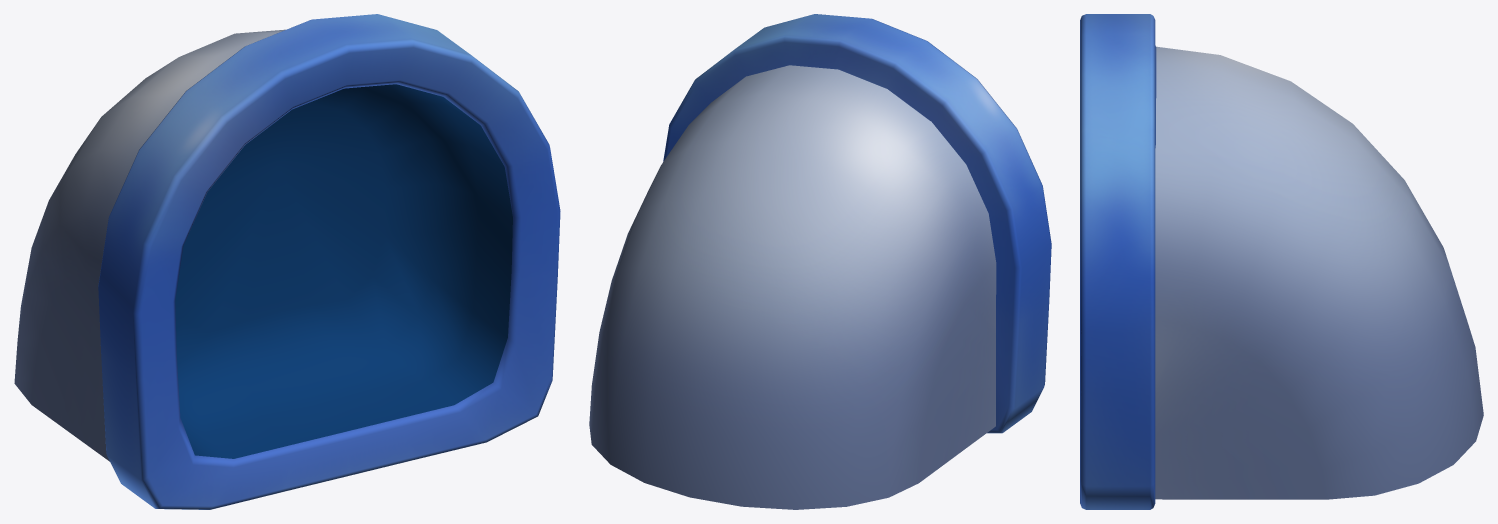
File: Tunnel.fbx
3 renders of one model, left to right at view 1: azimuth 30°, elevation 25°; view 2: azimuth 150°, elevation 25°; view 3: azimuth 270°, elevation 25°, orthographic. The views are drawn at different scales.
Visible parts, largest first — view 1: Tunnel; view 2: Tunnel; view 3: Tunnel.
Boxes of the visible parts, x1,y1,x2,y2 form: Tunnel: [14, 14, 560, 509]; Tunnel: [589, 14, 1051, 509]; Tunnel: [1080, 14, 1483, 509].
Size of the model in its own units: 107 by 103 by 93.74.
